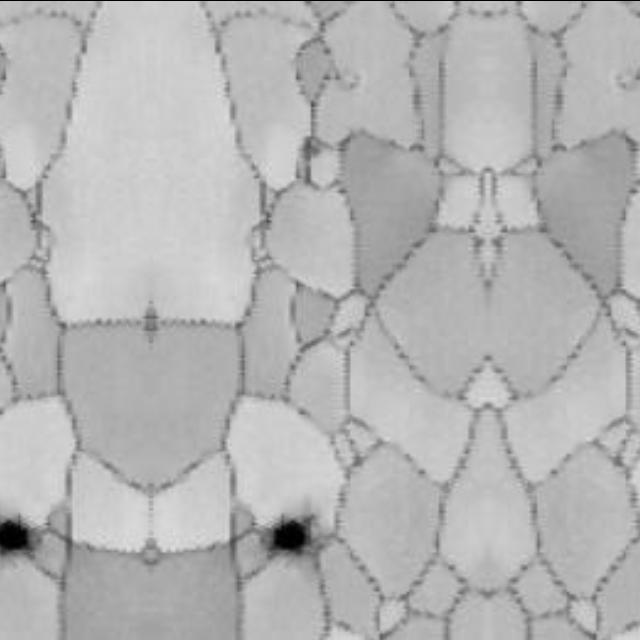good_void: (263, 508, 326, 561), (0, 513, 40, 561)
